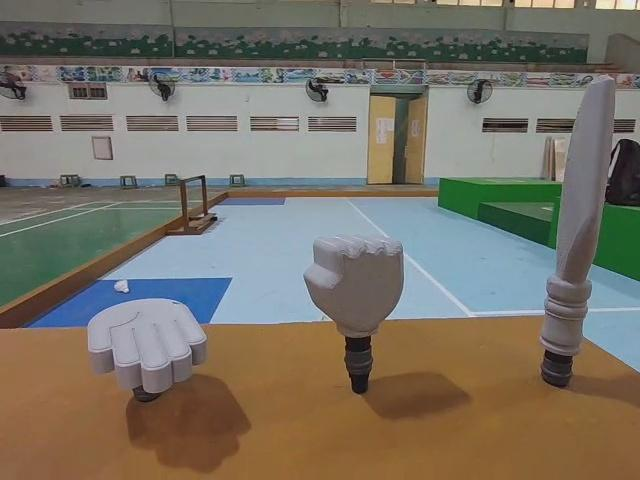Fist: (303, 231, 405, 394)
Hand: (88, 295, 208, 410)
Sph: (535, 69, 615, 395)
